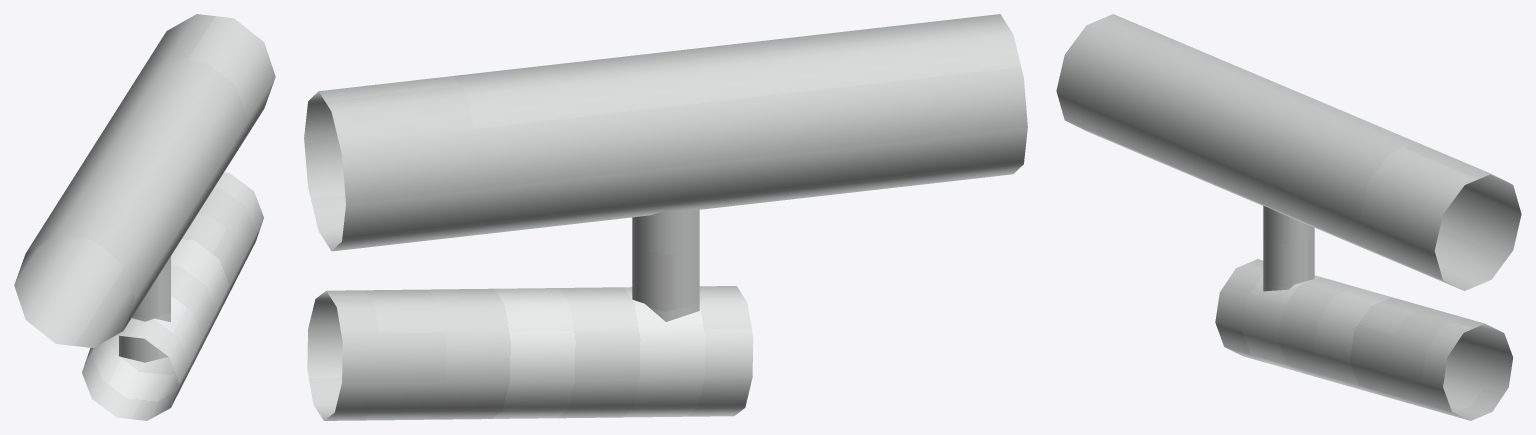
The model's file is trusssignalarm_diagonal8_c9.obj.
3 views of the same model, side by side, from view 1: azimuth 30°, elevation 25°; view 2: azimuth 150°, elevation 25°; view 3: azimuth 270°, elevation 25° (orthographic). The views are drawn at different scales.
Visible parts, largest first — view 1: trusssignalarm_diagonal8_c9; view 2: trusssignalarm_diagonal8_c9; view 3: trusssignalarm_diagonal8_c9.
Boxes of the visible parts, box(x1,y1,x2,y2) form: trusssignalarm_diagonal8_c9: box(14, 14, 275, 420); trusssignalarm_diagonal8_c9: box(304, 14, 1027, 420); trusssignalarm_diagonal8_c9: box(1056, 14, 1521, 420).
Bounding box in the file's own units: 1.23 × 0.7786 × 1.23.
